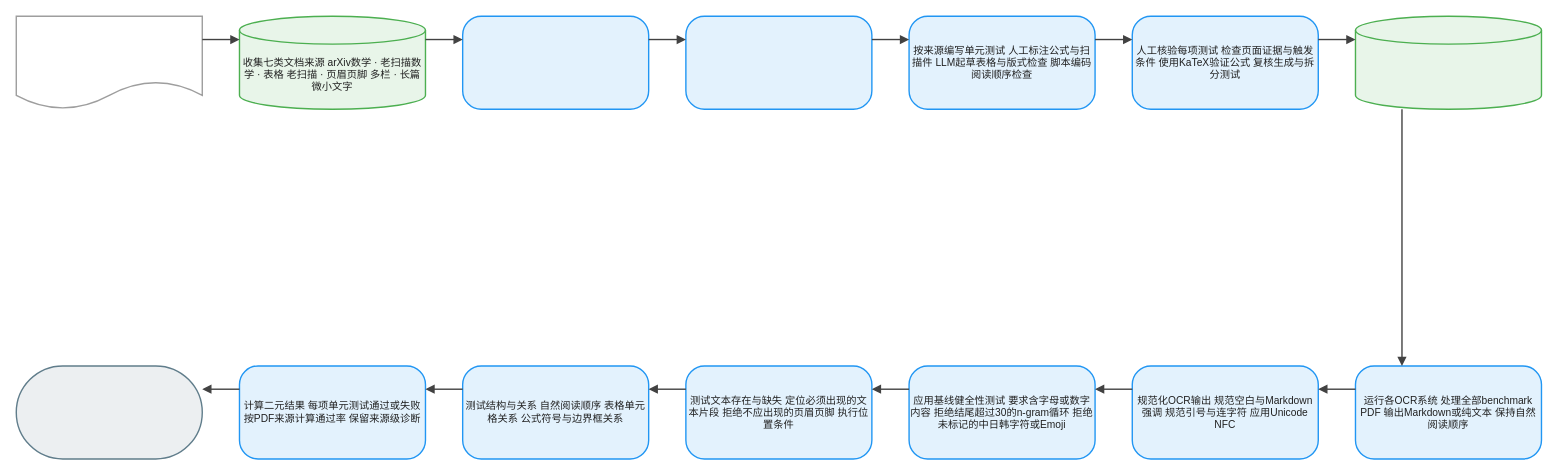
Some shapes in this 1559 by 476 pixel diagram are drawn without their labels. Each missing label, with the centre of its shape:
与训练数据去污染 对照olmOCR-mix-0225 按benchmark PDF URL去重 隔离评测文档: point 778,62
发布1,403份PDF与7,010项测试 存在721 · 缺失823 阅读顺序1,061 · 表格1,020 数学公式3,385: point 1448,62
定义高难PDF基准 测试忠实文本线性化 覆盖结构与自然阅读顺序 避免依赖完整参考转录: point 109,62
应用发布资格过滤 移除包含个人信息的文档 移除不可公开传播文件 保留来源信息: point 555,62
报告最终基准分数 对文档来源做宏平均 Bootstrap 95%置信区间 一致比较各OCR系统: point 109,412
